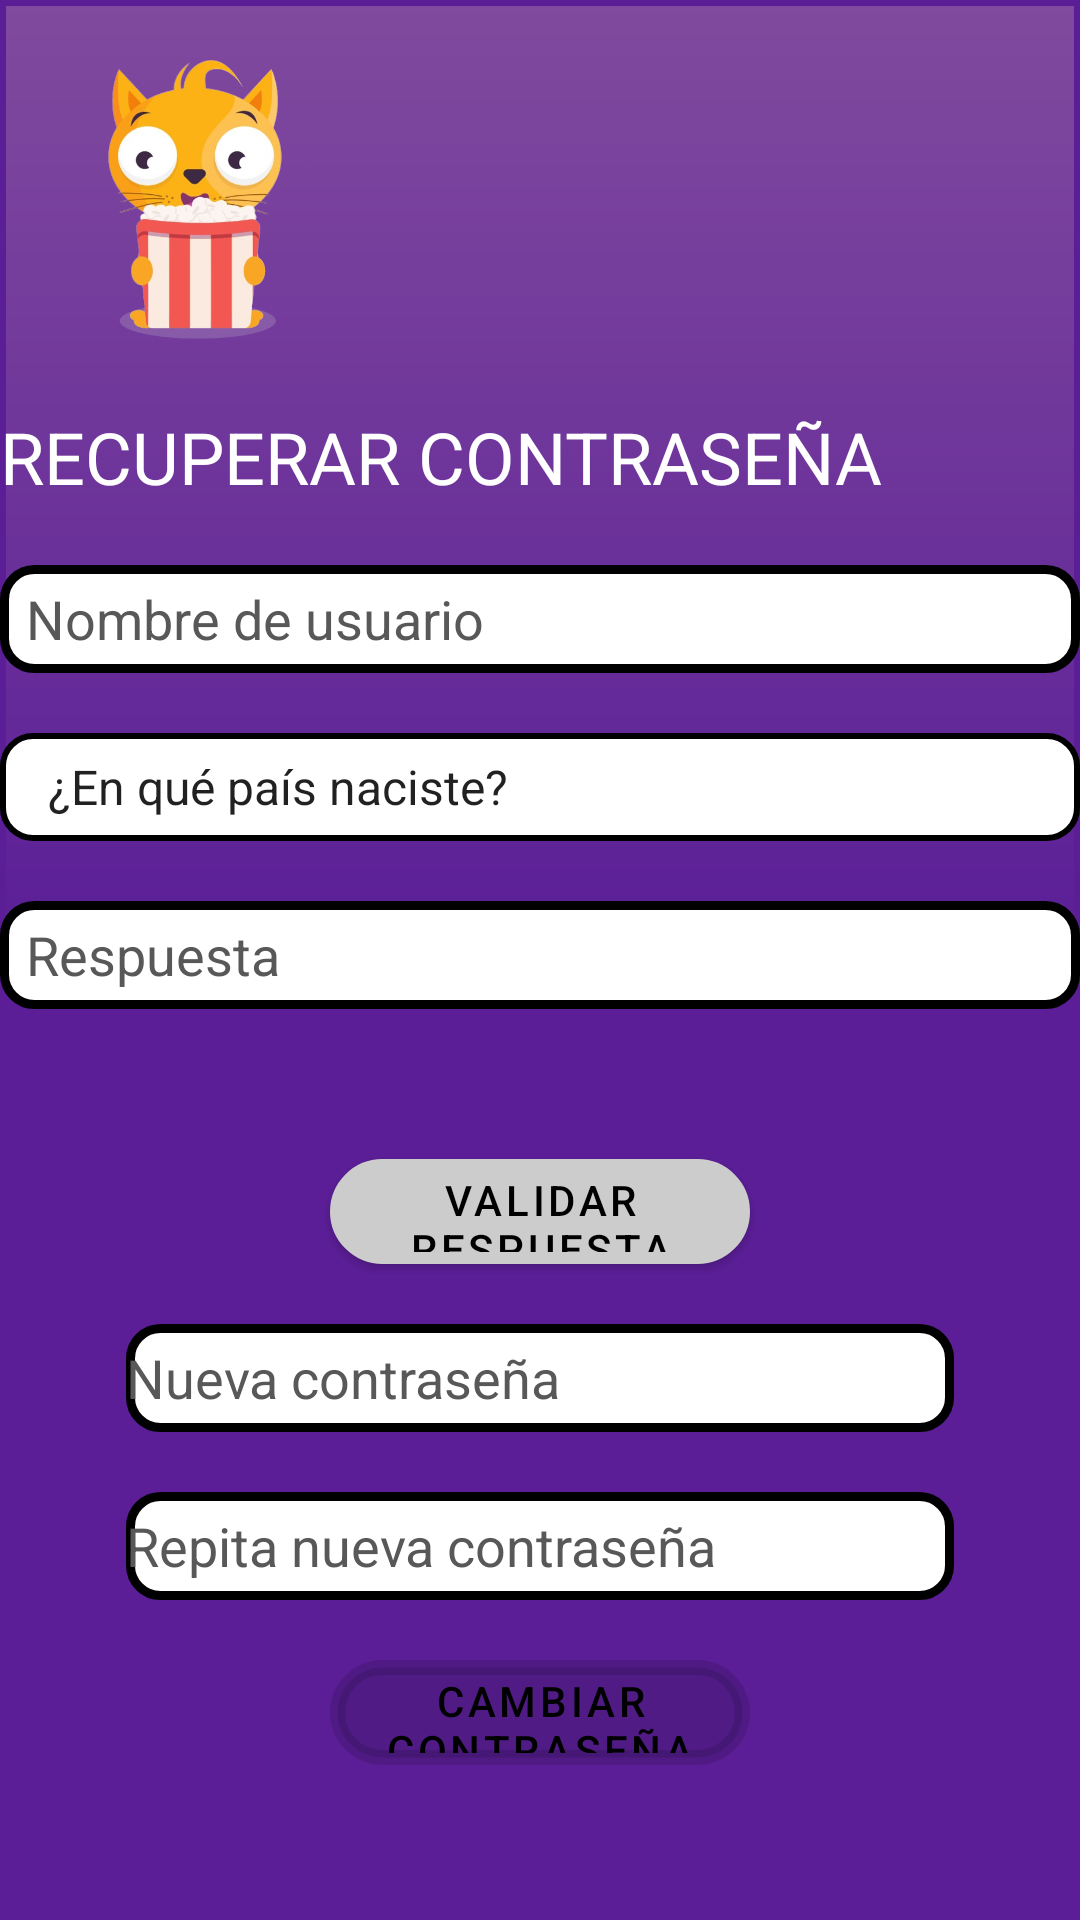

Named icons in this screenshot (1080 × 1920) and their centers, (x=x, y=y):
gato: (x=195, y=199)
